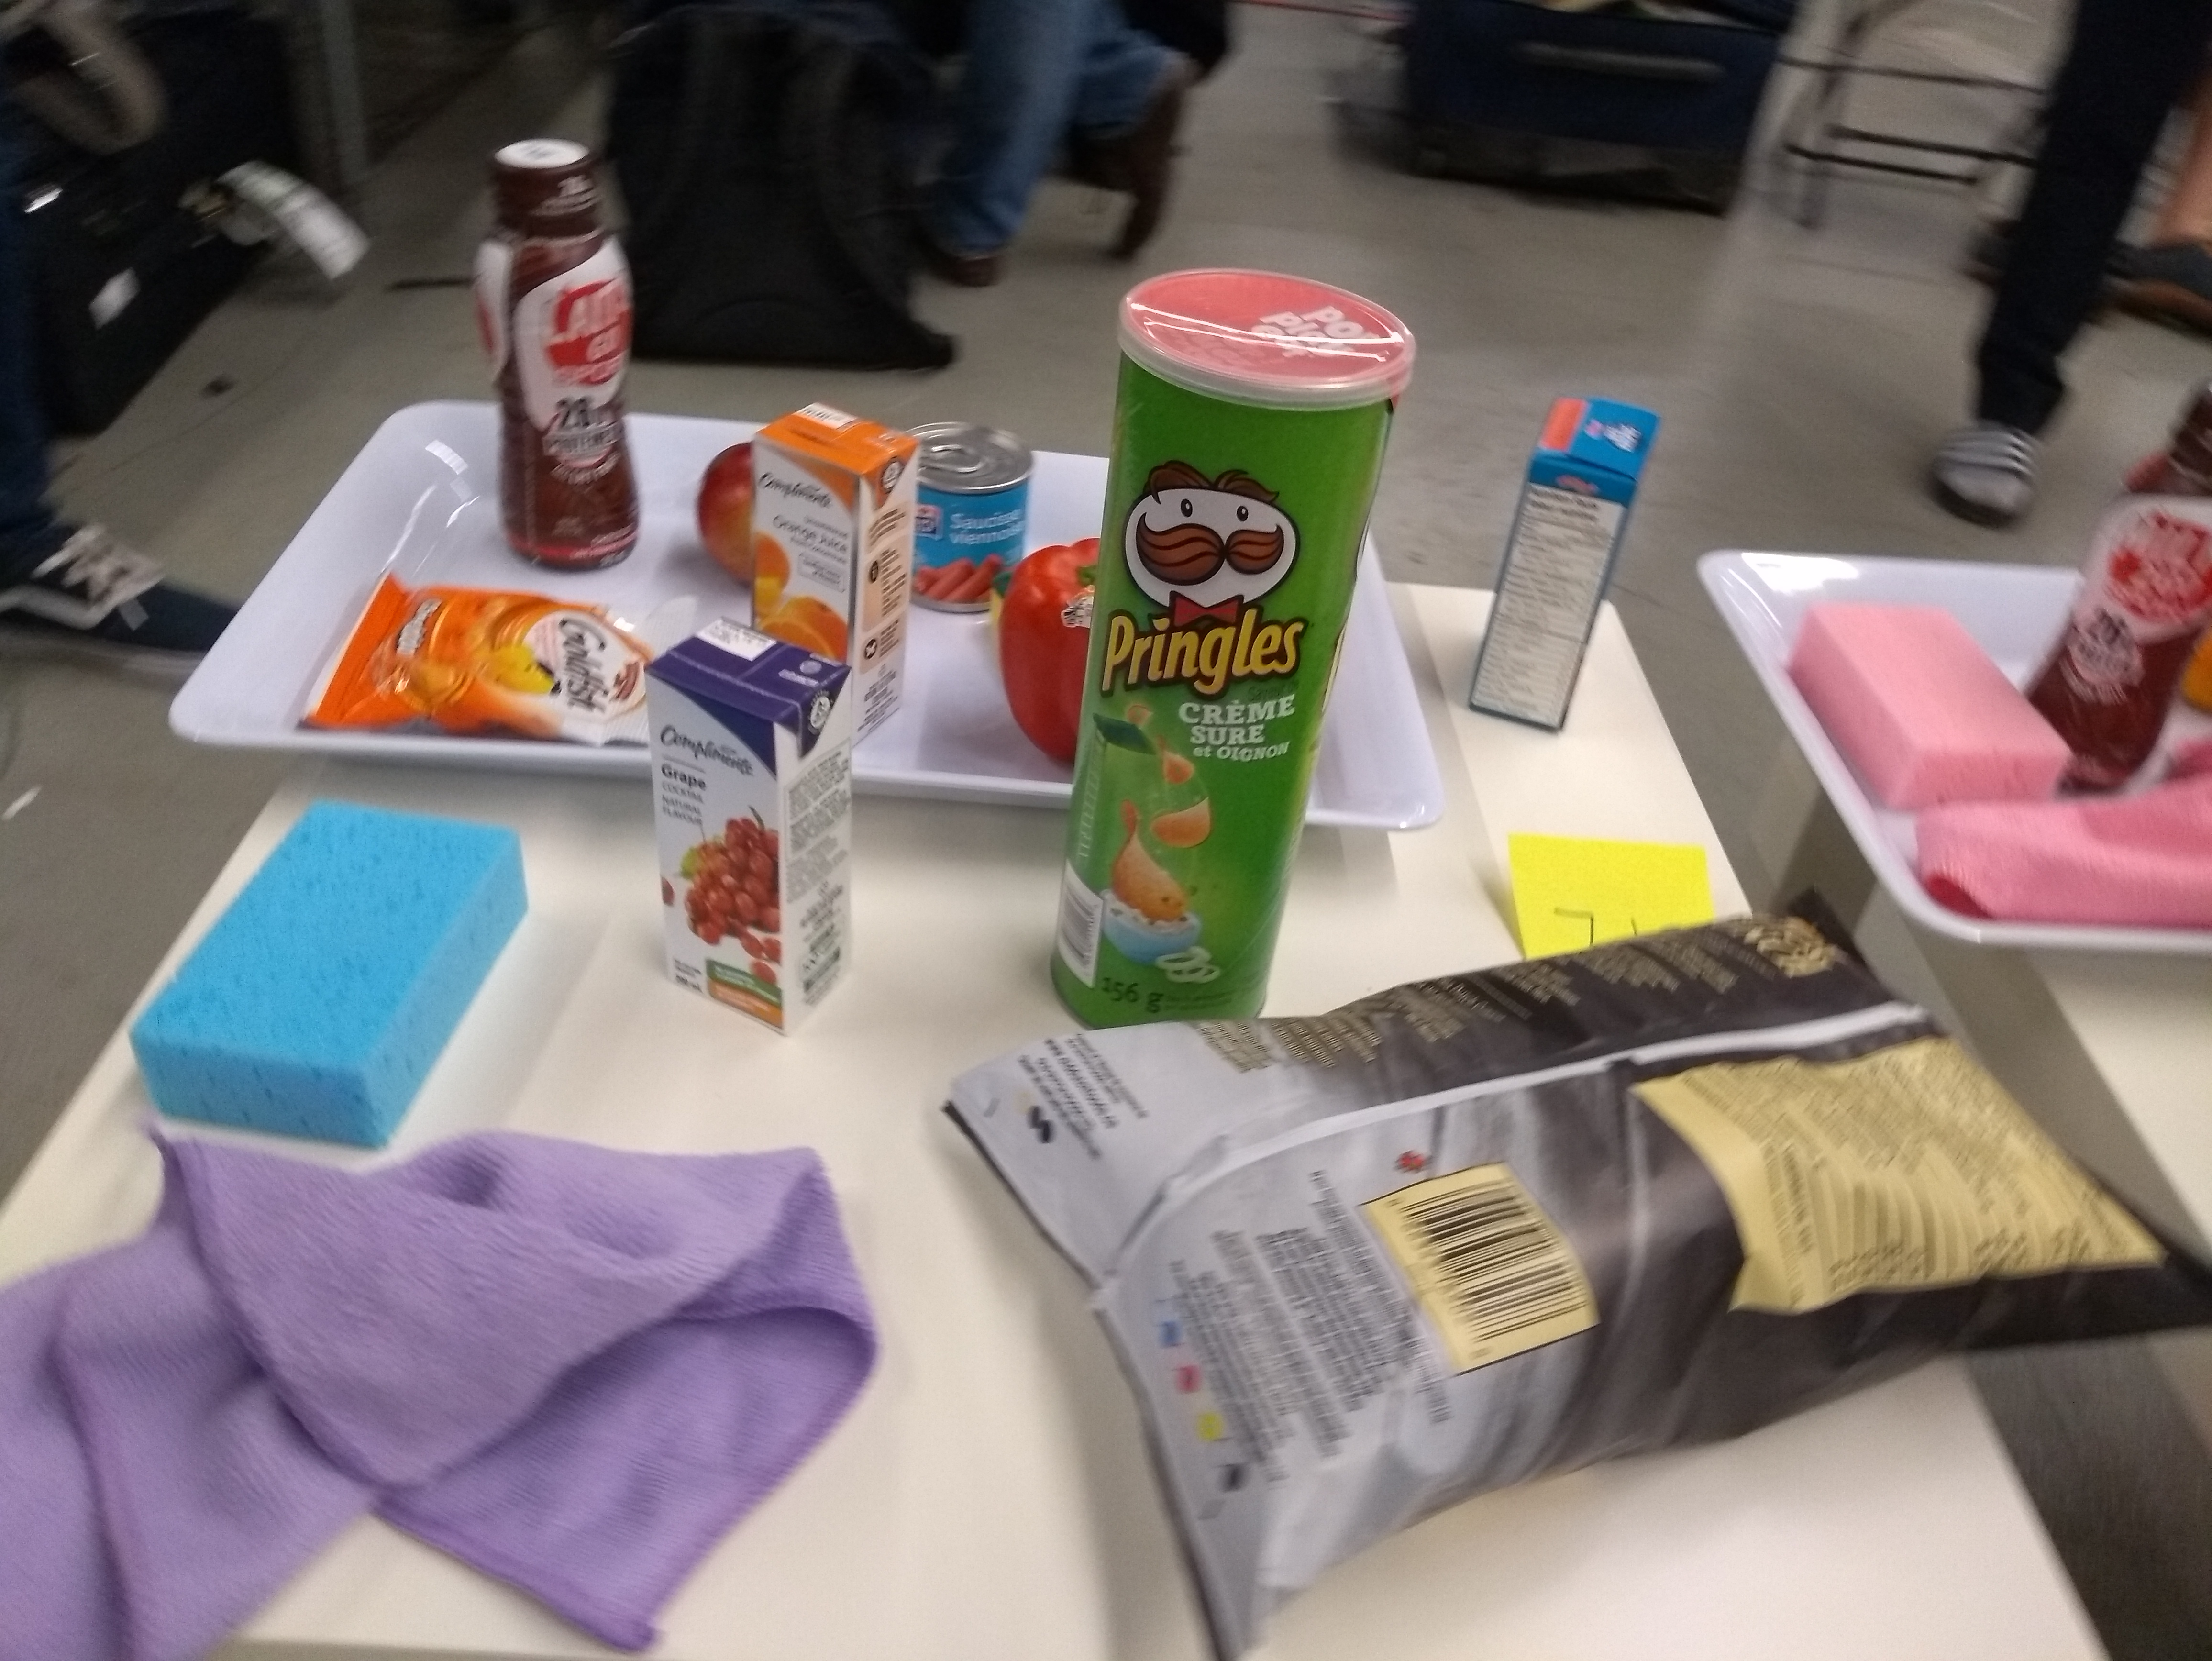apple: (694, 436, 759, 584)
cereal: (1457, 387, 1661, 748)
chocolate_drink: (462, 131, 645, 583)
cloth_opl: (0, 1120, 877, 1640)
crackers: (333, 593, 656, 748)
grape_juice: (652, 621, 860, 1022)
orange_juice: (747, 398, 925, 745)
paprika: (994, 534, 1116, 773)
potato_chips: (975, 899, 2212, 1621)
pringles: (1052, 244, 1383, 1024)
sausages: (907, 419, 1040, 623)
sponge_opl: (131, 794, 532, 1136)
